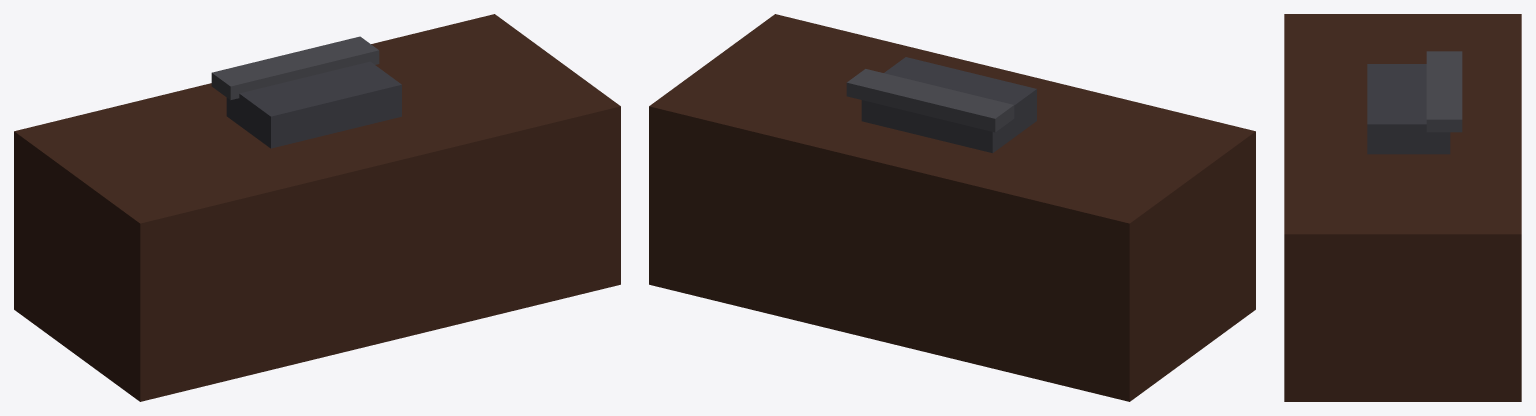
File: mesa_telefone_porao.glb
The picture shows the model from 3 angles, left to right: view 1: azimuth 30°, elevation 25°; view 2: azimuth 150°, elevation 25°; view 3: azimuth 270°, elevation 25°; orthographic projection. The views are drawn at different scales.
Visible parts, largest first — view 1: Malha_0; view 2: Malha_0; view 3: Malha_0.
Boxes of the visible parts, x1,y1,x2,y2 form: Malha_0: (14, 14, 620, 401); Malha_0: (649, 14, 1255, 401); Malha_0: (1284, 14, 1521, 401).
Size of the model in its own units: 2.2 by 0.96 by 1.
